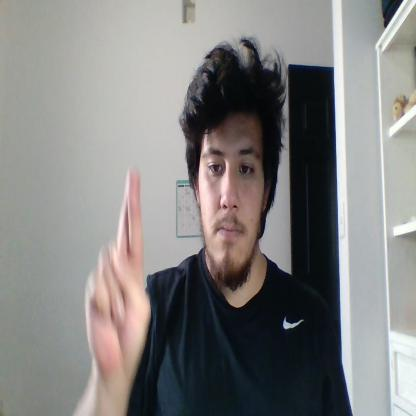R: (86, 163, 151, 376)
